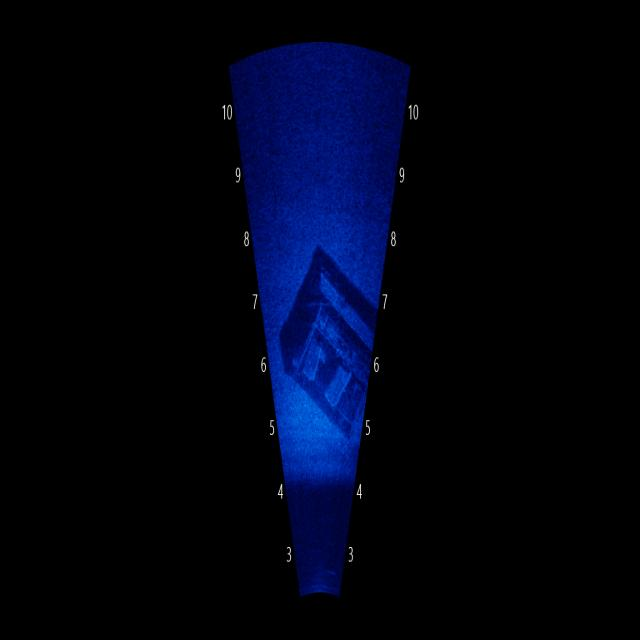square: (284, 244, 381, 435)
